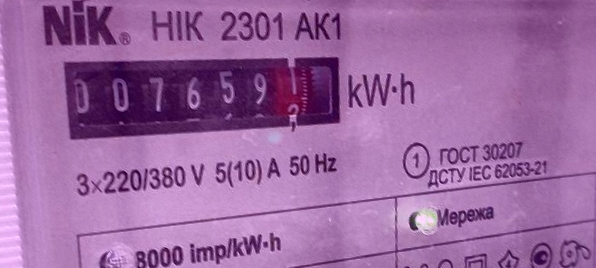0: (105, 71, 134, 114), (66, 73, 94, 116)
1: (282, 63, 303, 98)
5: (214, 66, 238, 106)
6: (179, 71, 205, 112)
7: (144, 72, 168, 114)
9: (249, 68, 270, 107)
screen: (50, 20, 355, 172)
